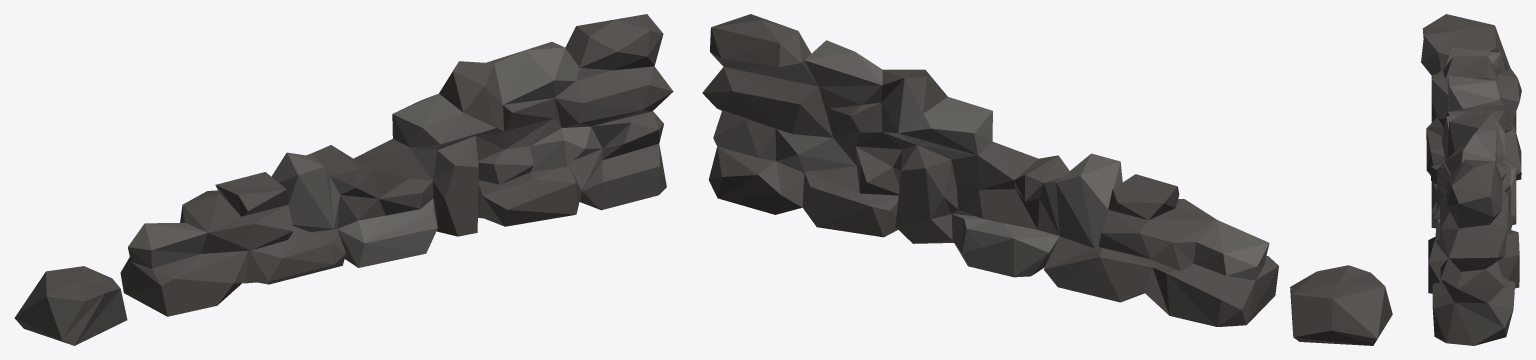
Rendered from env_stonewall2.gltf.
3 renders of one model, left to right at view 1: azimuth 30°, elevation 25°; view 2: azimuth 150°, elevation 25°; view 3: azimuth 270°, elevation 25°, orthographic. The views are drawn at different scales.
Parts seen in each view (by area): view 1: env_stonewall2; view 2: env_stonewall2; view 3: env_stonewall2.
Part boxes in pixels (x1,y1,x2,y2): env_stonewall2: (14, 14, 673, 345); env_stonewall2: (702, 14, 1392, 345); env_stonewall2: (1421, 14, 1521, 345).
Bounding box in the file's own units: 4.26 × 1.08 × 0.608.
Materials: 1 (1 with a texture image).
